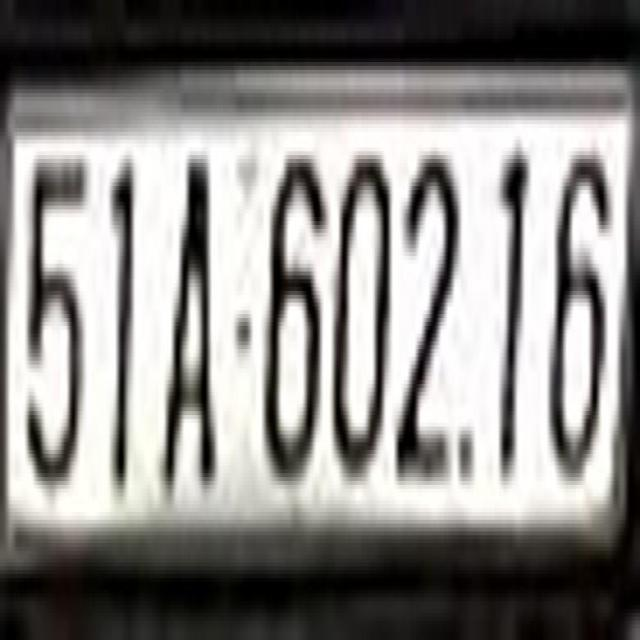0: (332, 147, 389, 489)
1: (492, 120, 526, 493), (105, 132, 136, 504)
2: (396, 155, 458, 493)
5: (26, 143, 88, 504)
6: (259, 140, 327, 497), (546, 128, 612, 493)
A: (156, 144, 220, 492)
